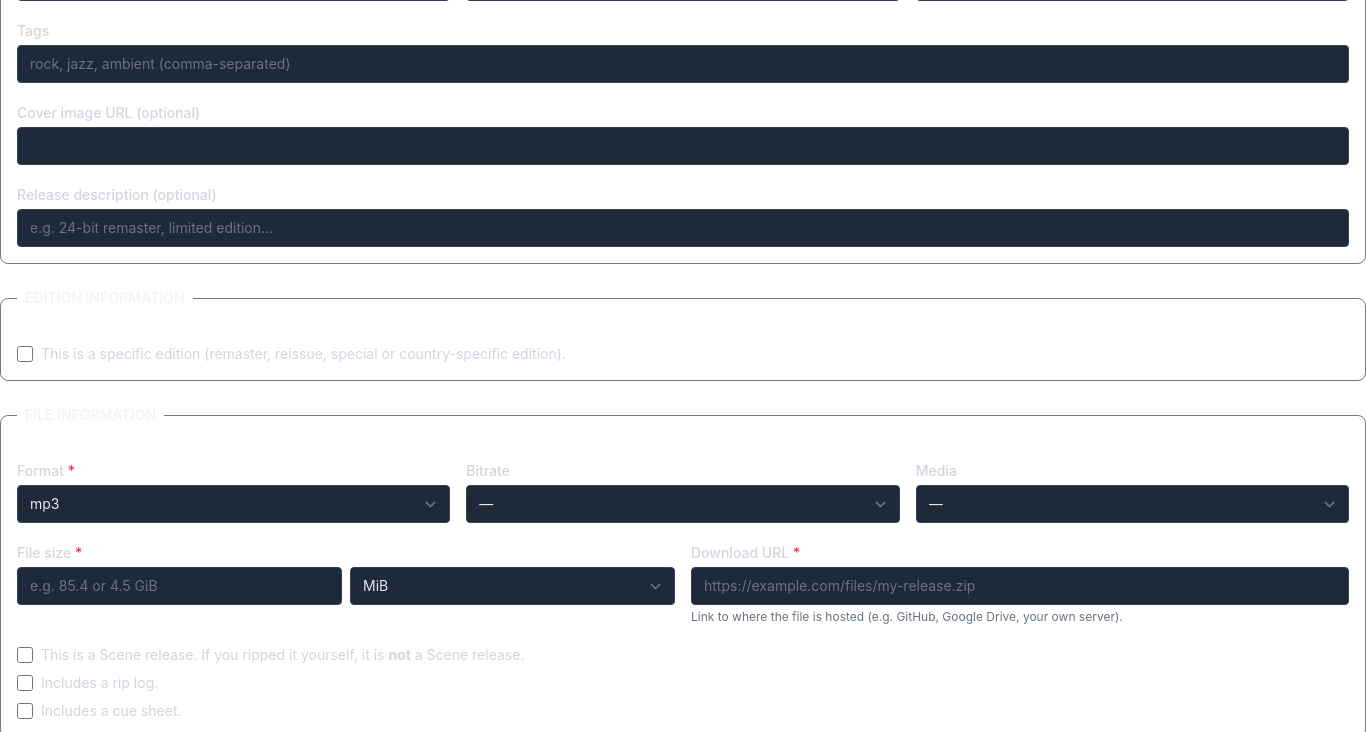
Test: ContributeForm › reveals edition fields when the edition checkbox is ticked
(page scrolled)
Expected: the field labelled "edition title" is not shown
Click the checkbox labelled "This is a specific edition". click: click(25, 354)
box: x1=17 y1=346 x2=33 y2=362
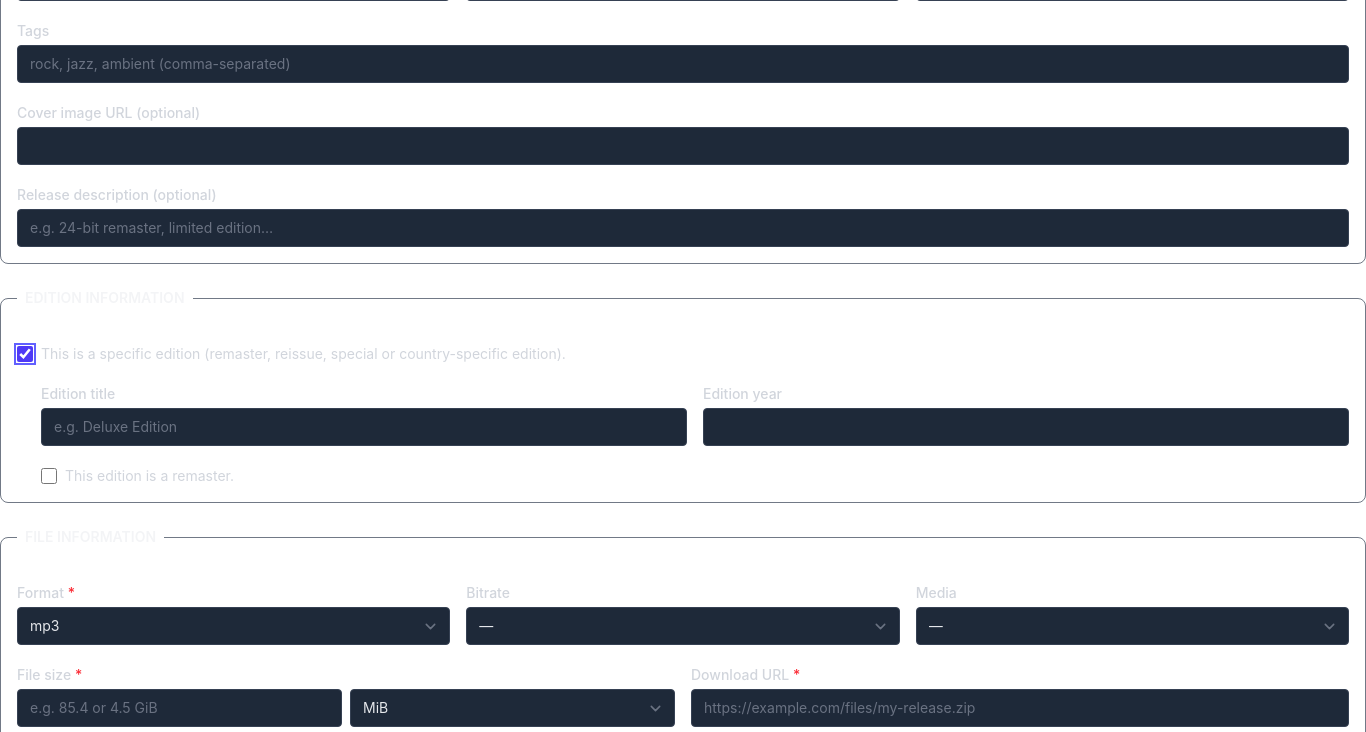
Now the field labelled "Edition title" is shown, box x1=41 y1=408 x2=687 y2=446
Now the number field labelled "Edition year" is shown, box x1=703 y1=408 x2=1349 y2=446
Now the checkbox labelled "This edition is a remaster." is shown, box x1=41 y1=468 x2=57 y2=484
